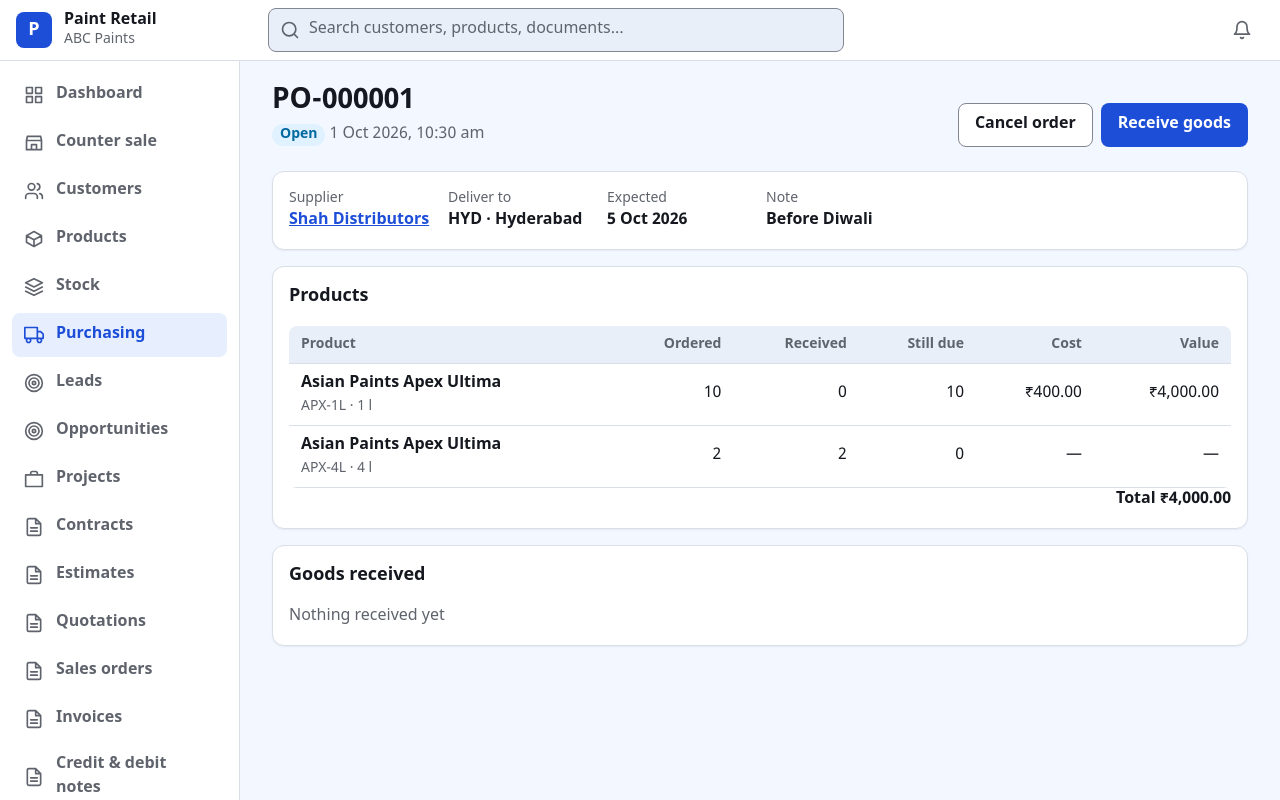
Test: PurchaseOrderDetailPage › shows the order and cancels it with a reason
The width and height of the screenshot is (1280, 800).
Expected: the heading "PO-000001" is shown, left=272, top=83, right=415, bottom=119
Expected: the text "Open" is shown, left=272, top=124, right=326, bottom=146
Click the button "Cancel order".
click(1025, 125)  # box left=958, top=103, right=1093, bottom=147
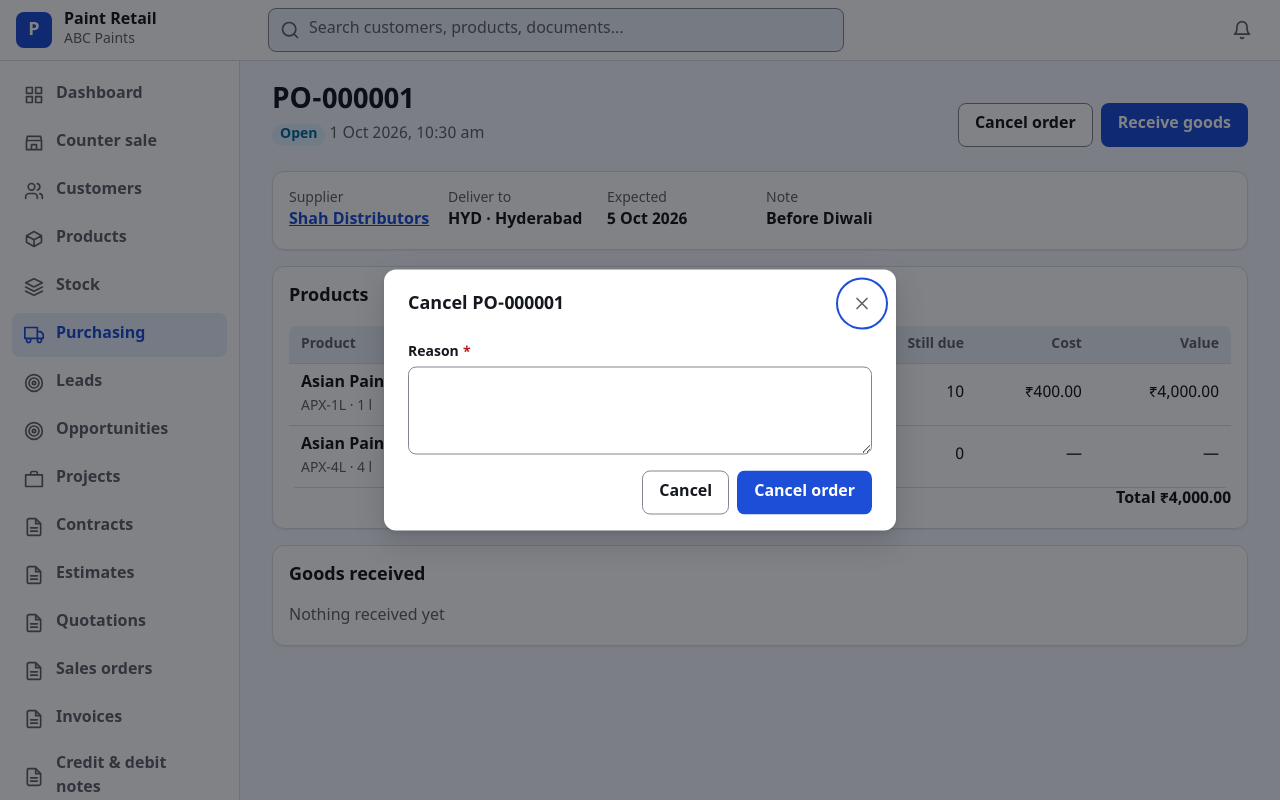
Type "no" into the text box labelled "Reason *".
click(640, 410); type("no")  # box left=408, top=366, right=872, bottom=454
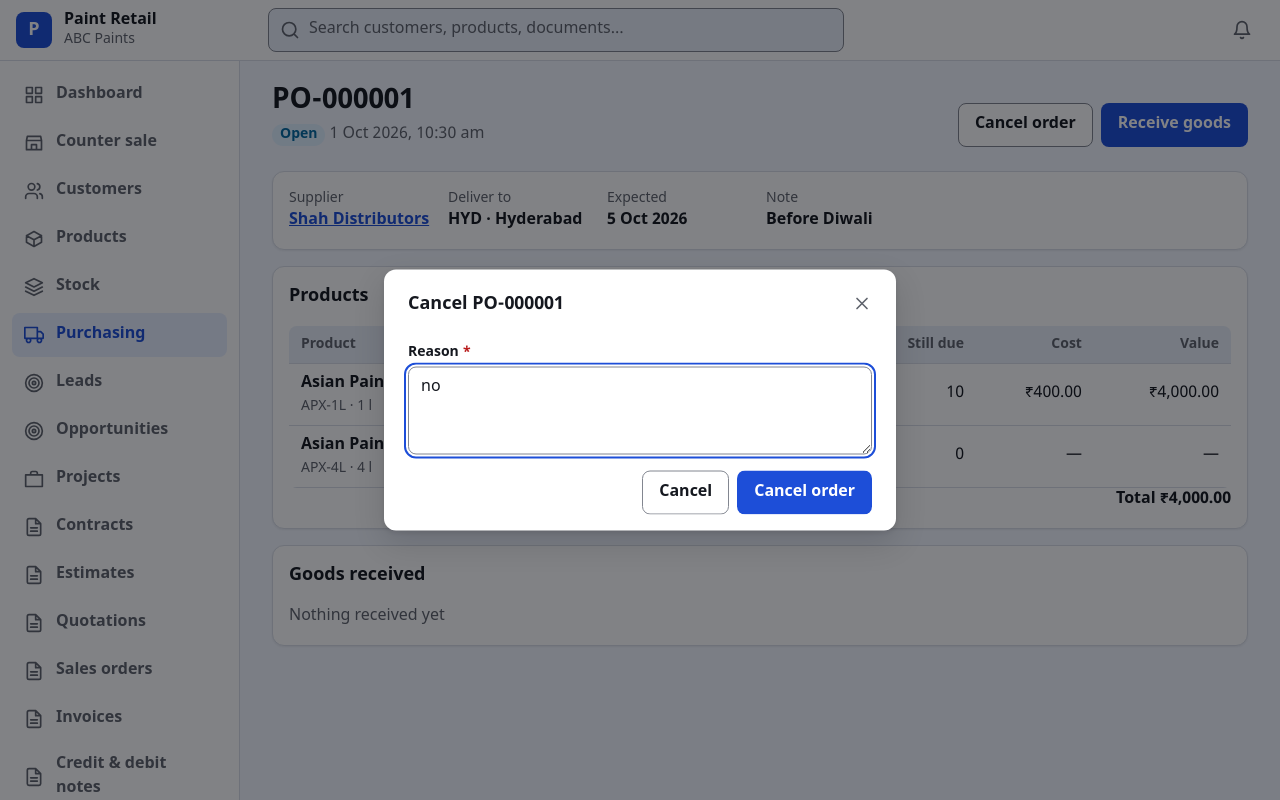
Click the button "Cancel order".
click(805, 492)  # box left=737, top=470, right=872, bottom=514
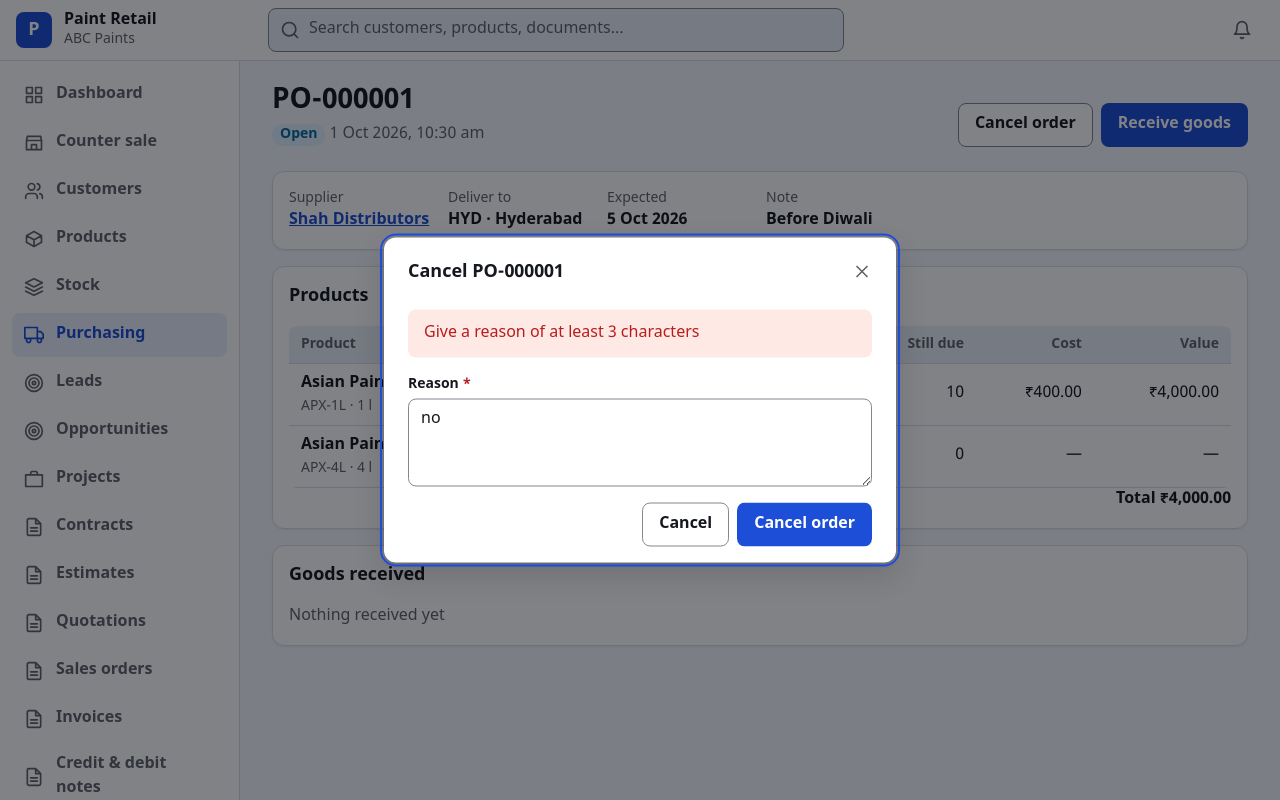
Now the text "Give a reason of at least 3 characters" is shown, box left=424, top=322, right=699, bottom=346
Type "t needed" into the text box labelled "Reason *".
click(640, 442); type("t needed")  # box left=408, top=398, right=872, bottom=486
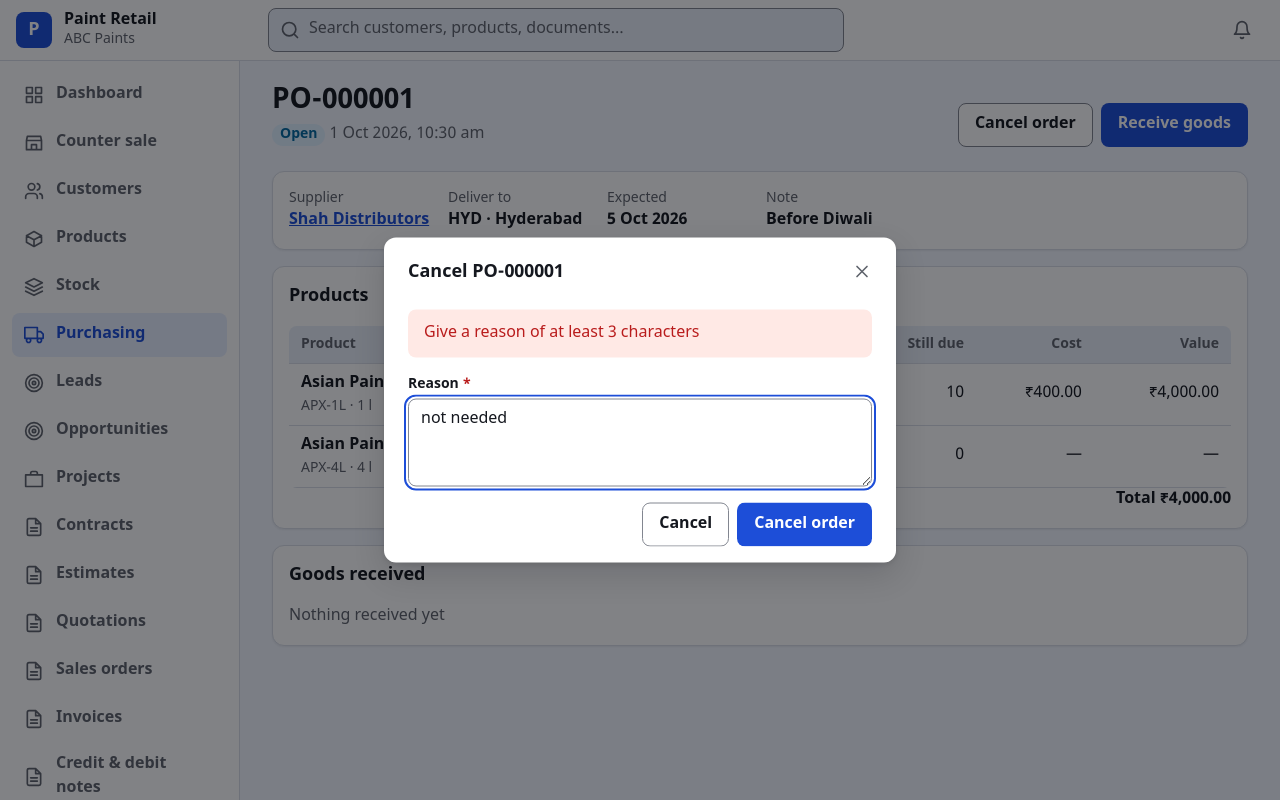
Click the button "Cancel order".
click(805, 524)  # box left=737, top=502, right=872, bottom=546
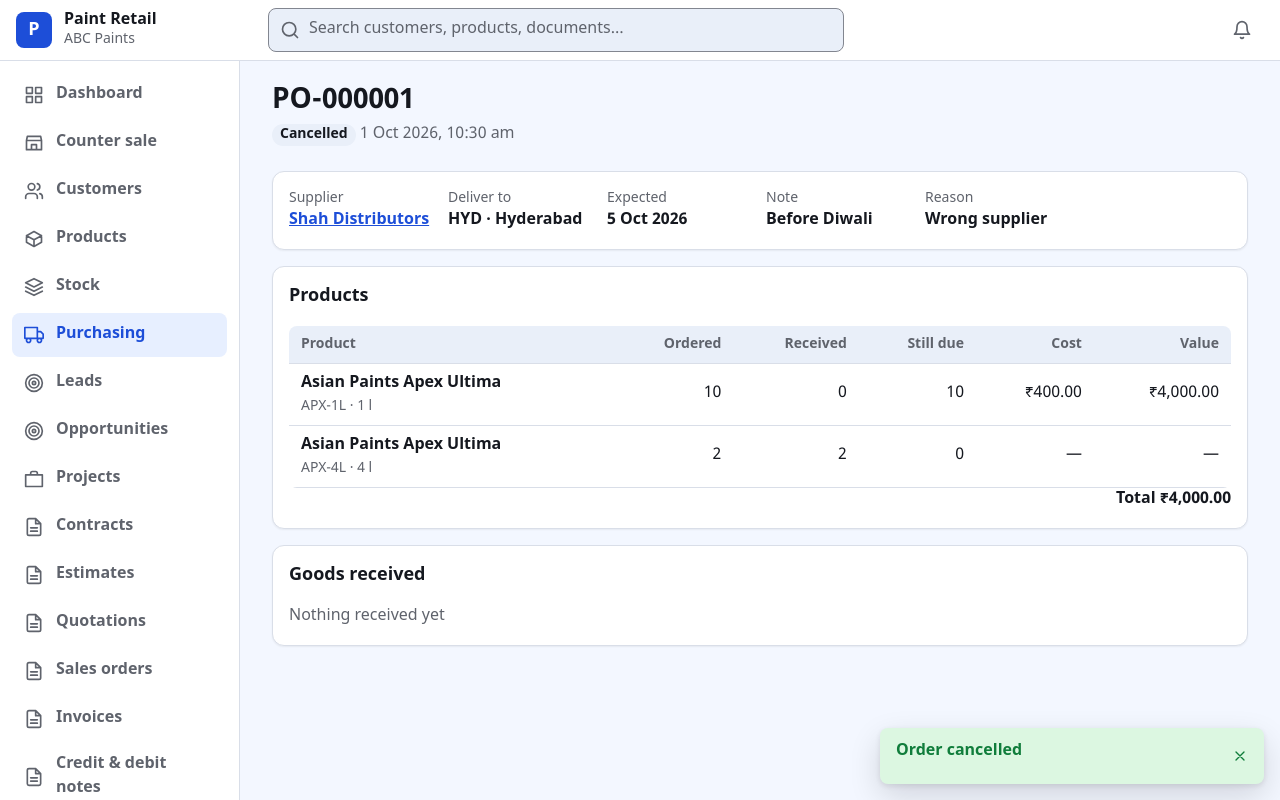
Now the text "Order cancelled" is shown, box left=896, top=741, right=1022, bottom=762
Now the text "Wrong supplier" is shown, box left=925, top=210, right=1047, bottom=231
Now the link "Receive goods" is gone
